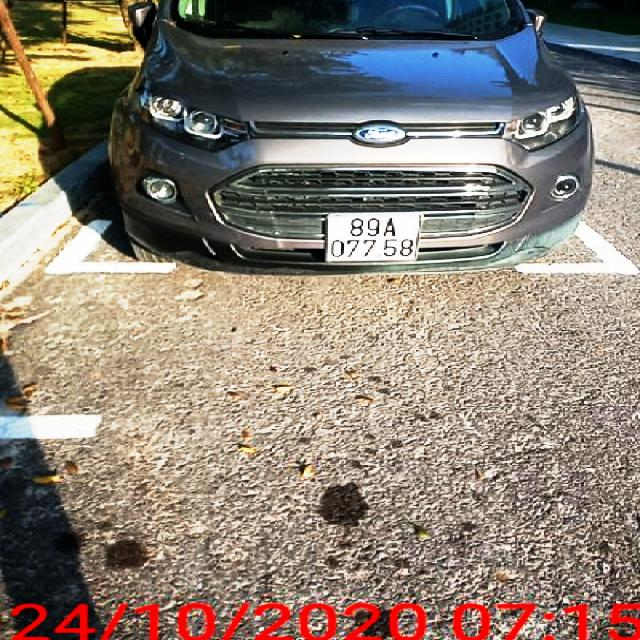license_plate: (327, 215, 424, 263)
